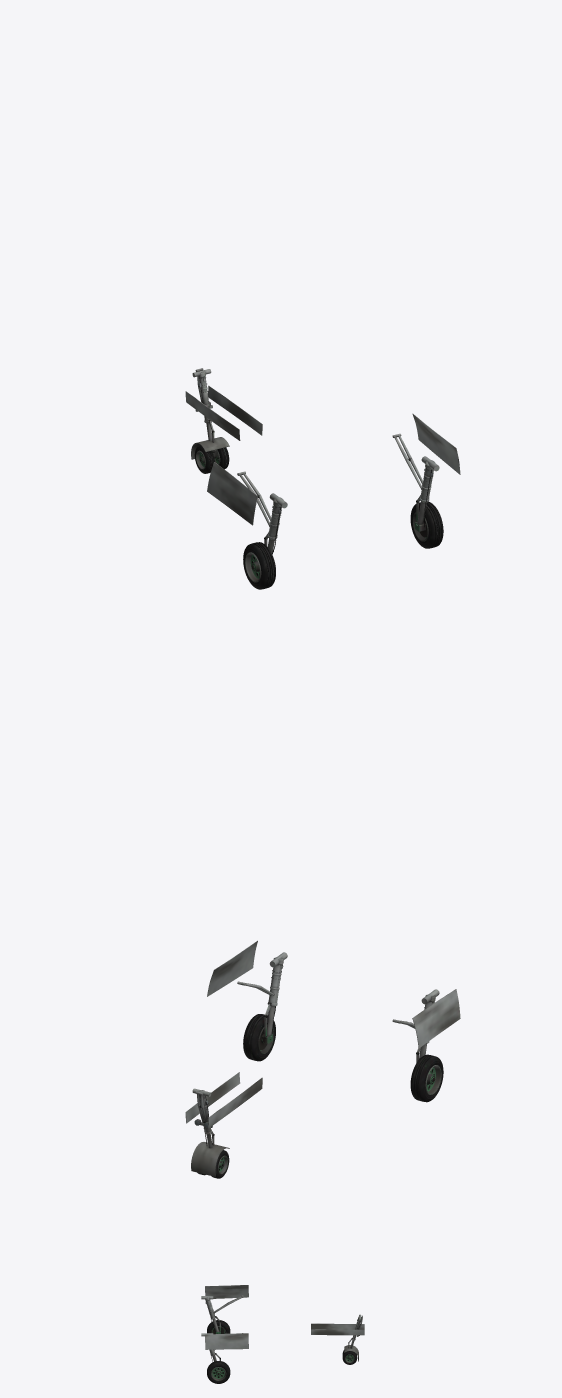
File: su30_gear.glb
The picture shows the model from 3 angles, top to bottom: view 1: azimuth 30°, elevation 25°; view 2: azimuth 150°, elevation 25°; view 3: azimuth 270°, elevation 25°; orthographic projection. The views are drawn at different scales.
Visible parts, largest first — view 1: body|S30_paint; view 2: body|S30_paint; view 3: body|S30_paint.
Boxes of the visible parts, box(x1,y1,x2,y2) form: body|S30_paint: box(185, 368, 460, 589); body|S30_paint: box(185, 940, 460, 1178); body|S30_paint: box(201, 1285, 364, 1383).
Bounding box in the file's own units: 5.19 × 7.29 × 22.65.
2 materials, 1 textured.
